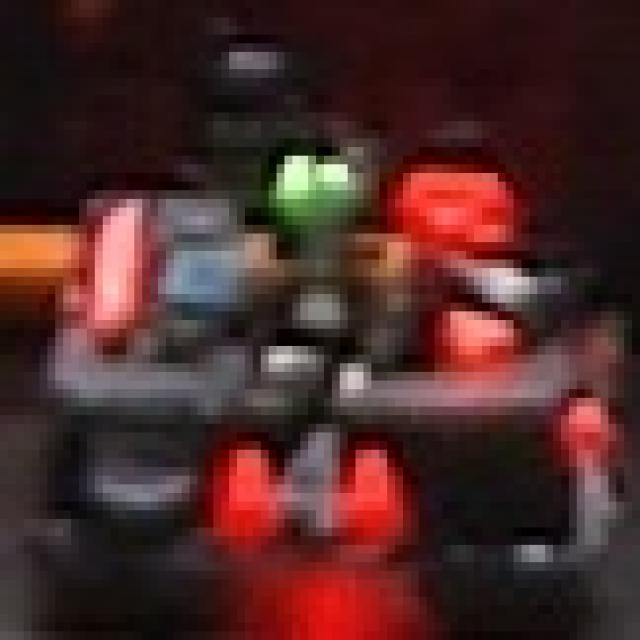R4: (198, 415, 418, 554)
